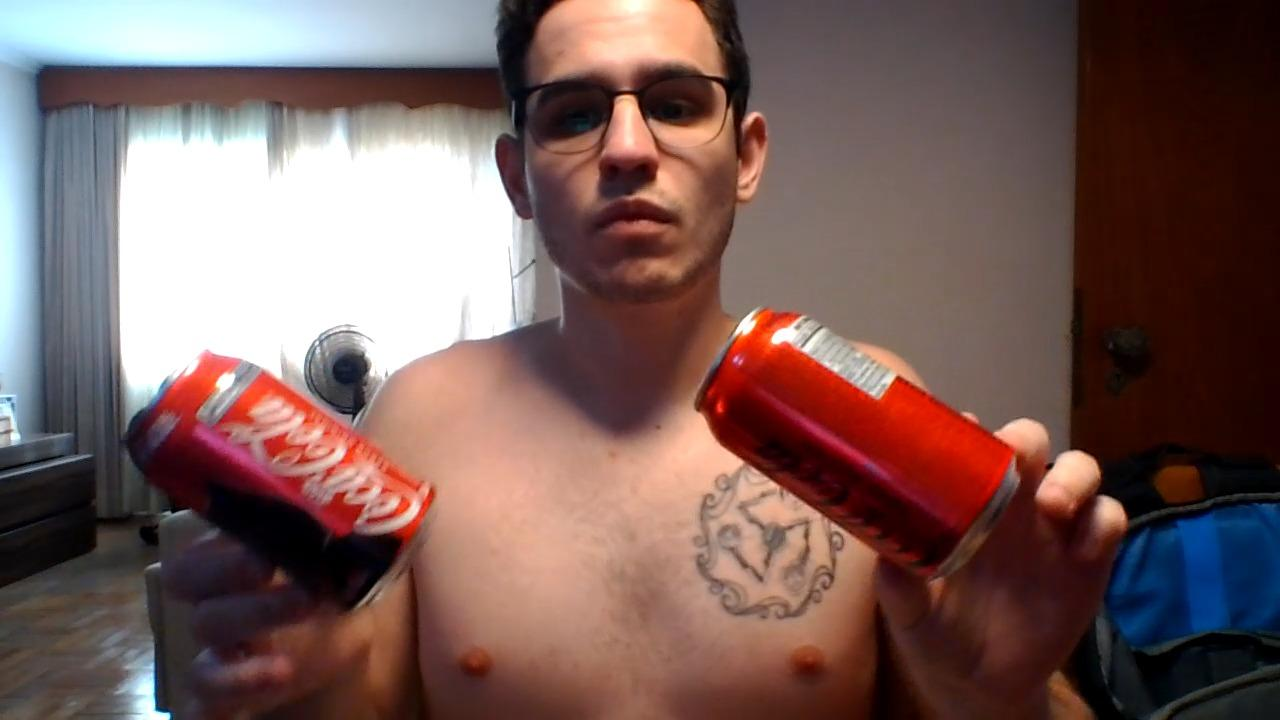coke: (693, 307, 1020, 588), (120, 350, 438, 612)
